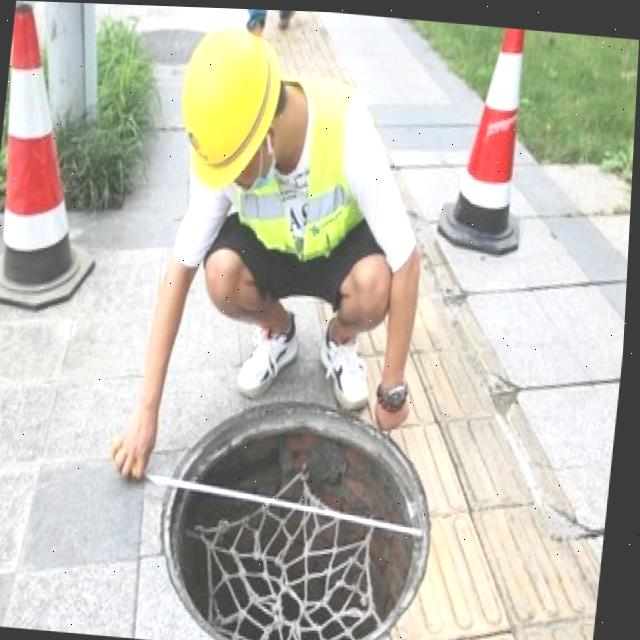manhole: (143, 375, 449, 640)
